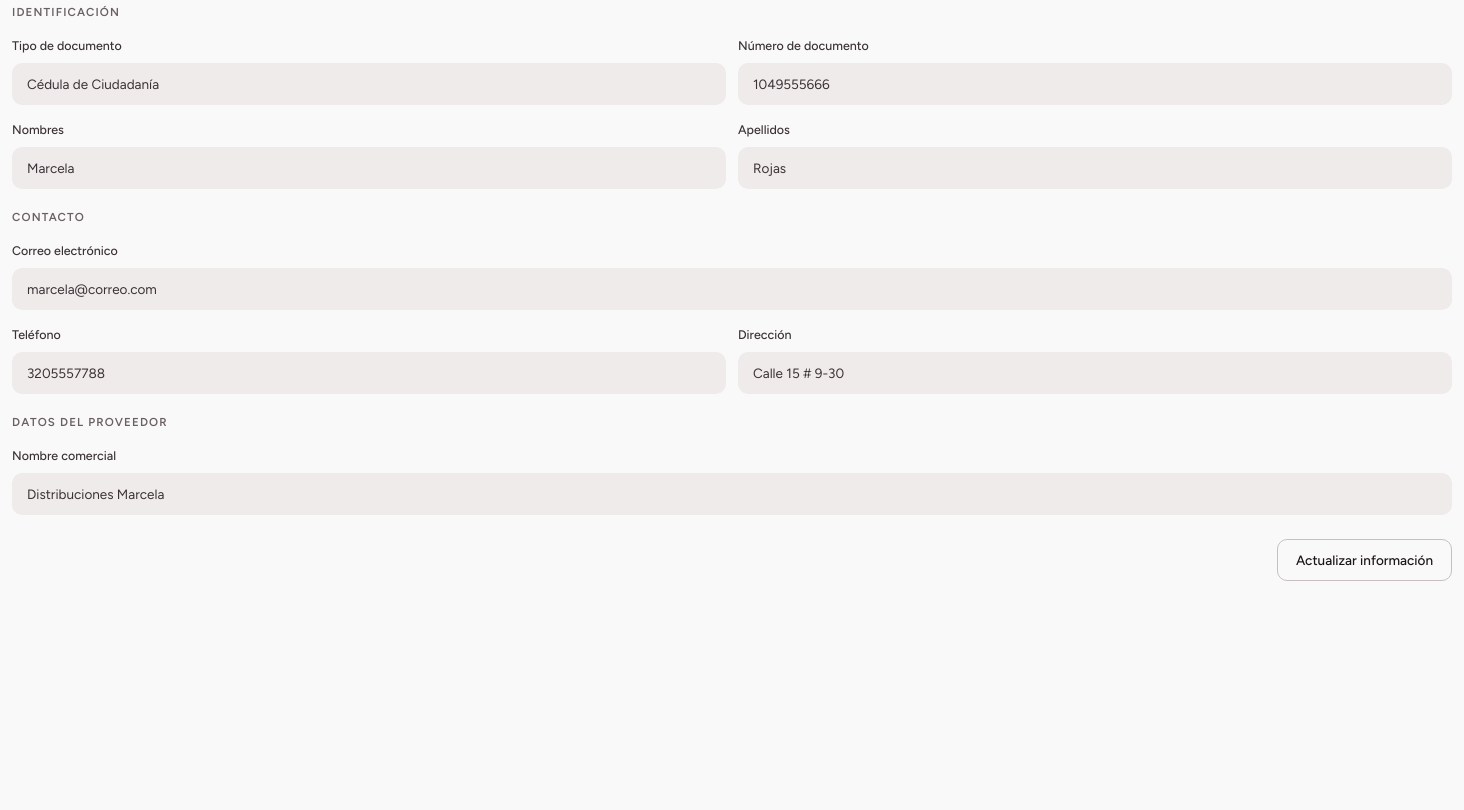
Test: SupplierDataForm validation › asks for both names of a natural person
Click the button "Actualizar información". click: coordinates (1364, 560)
box: [1277,539,1452,581]
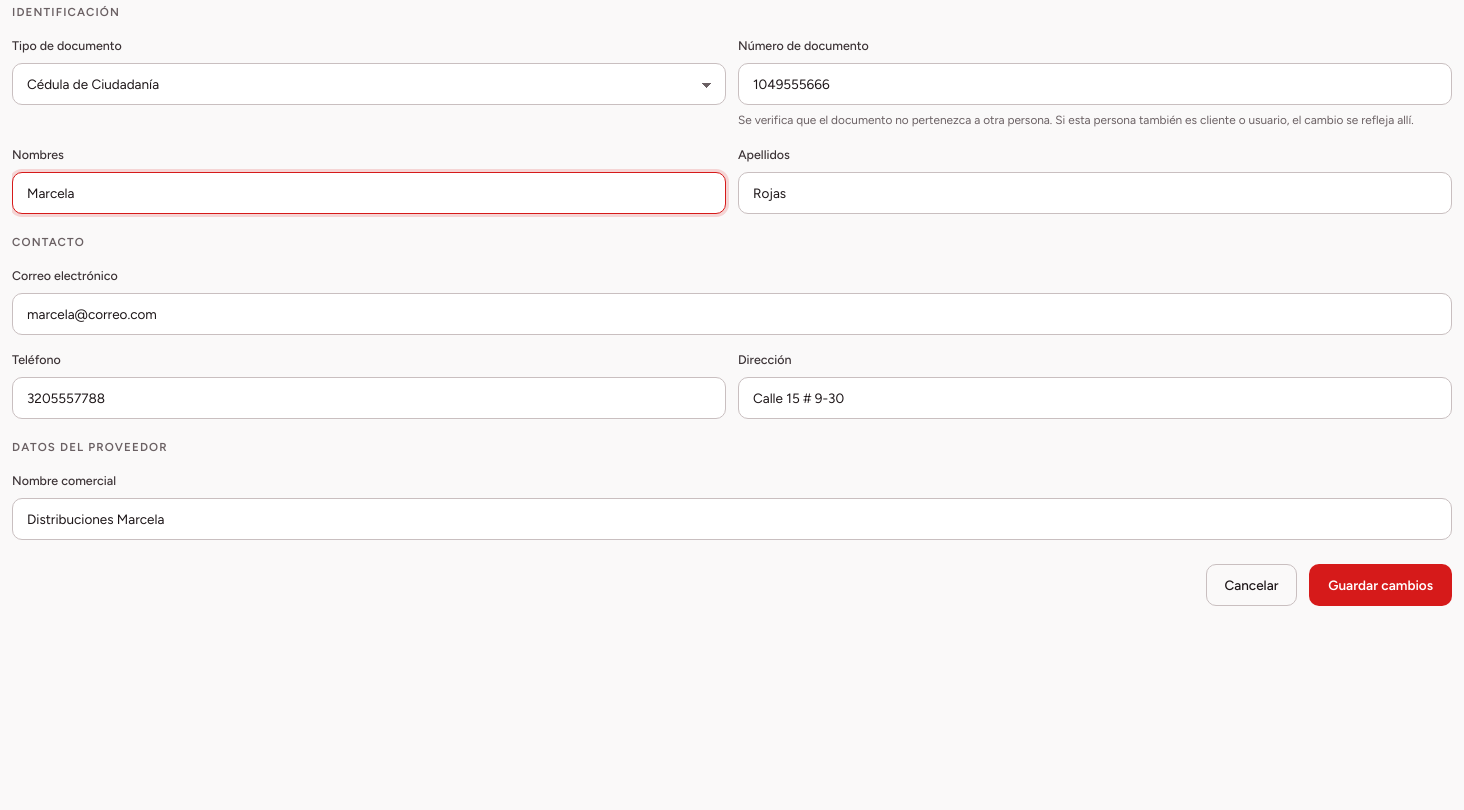
Now the dropdown labelled "Tipo de documento" shows "Cédula de Ciudadanía", box [12,63,726,105]
Clear the field labelled "Nombres". click: coordinates (369, 193)
box: [12,172,726,214]
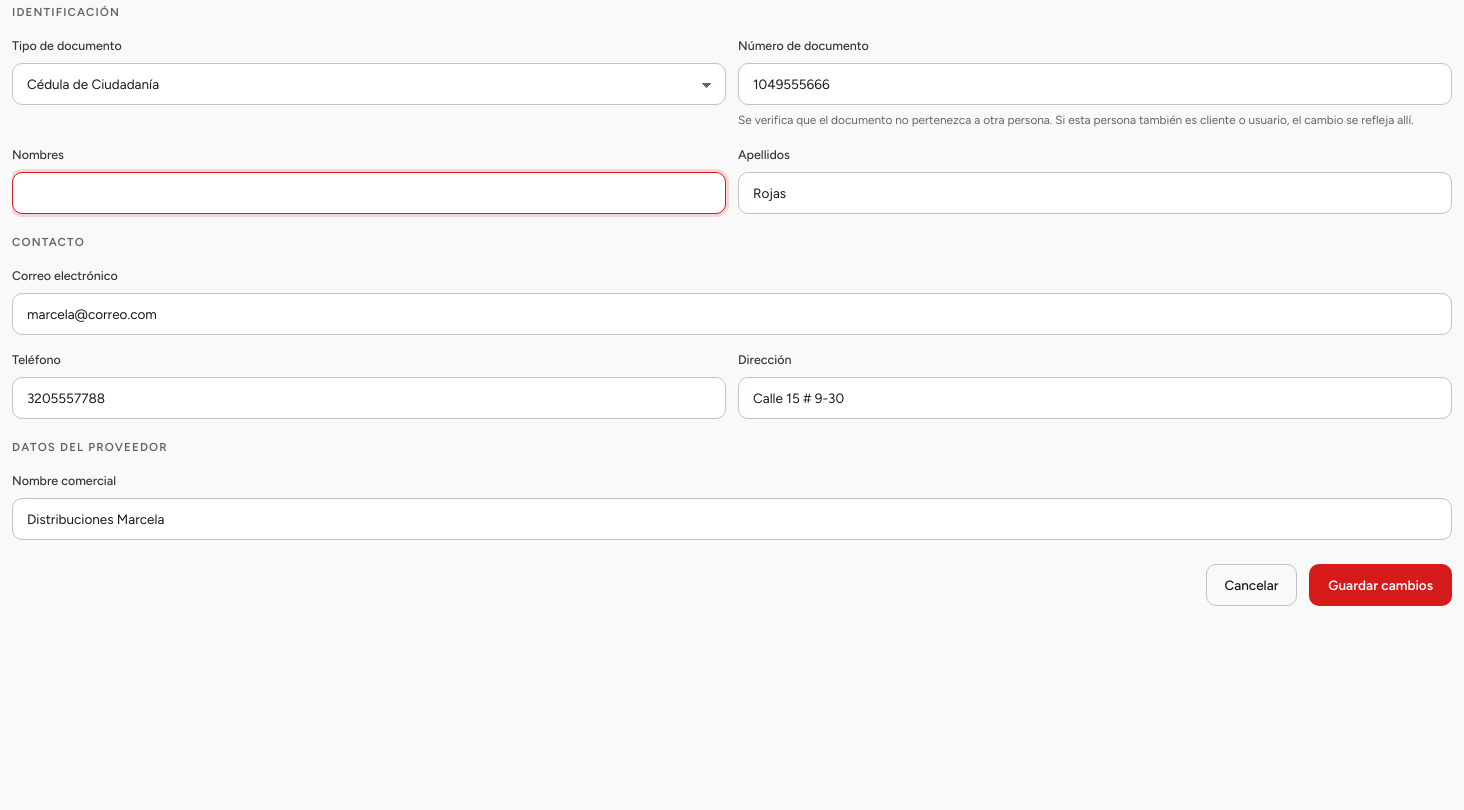
Click the button "Guardar cambios". click: coordinates (1381, 585)
box: [1309,564,1452,606]
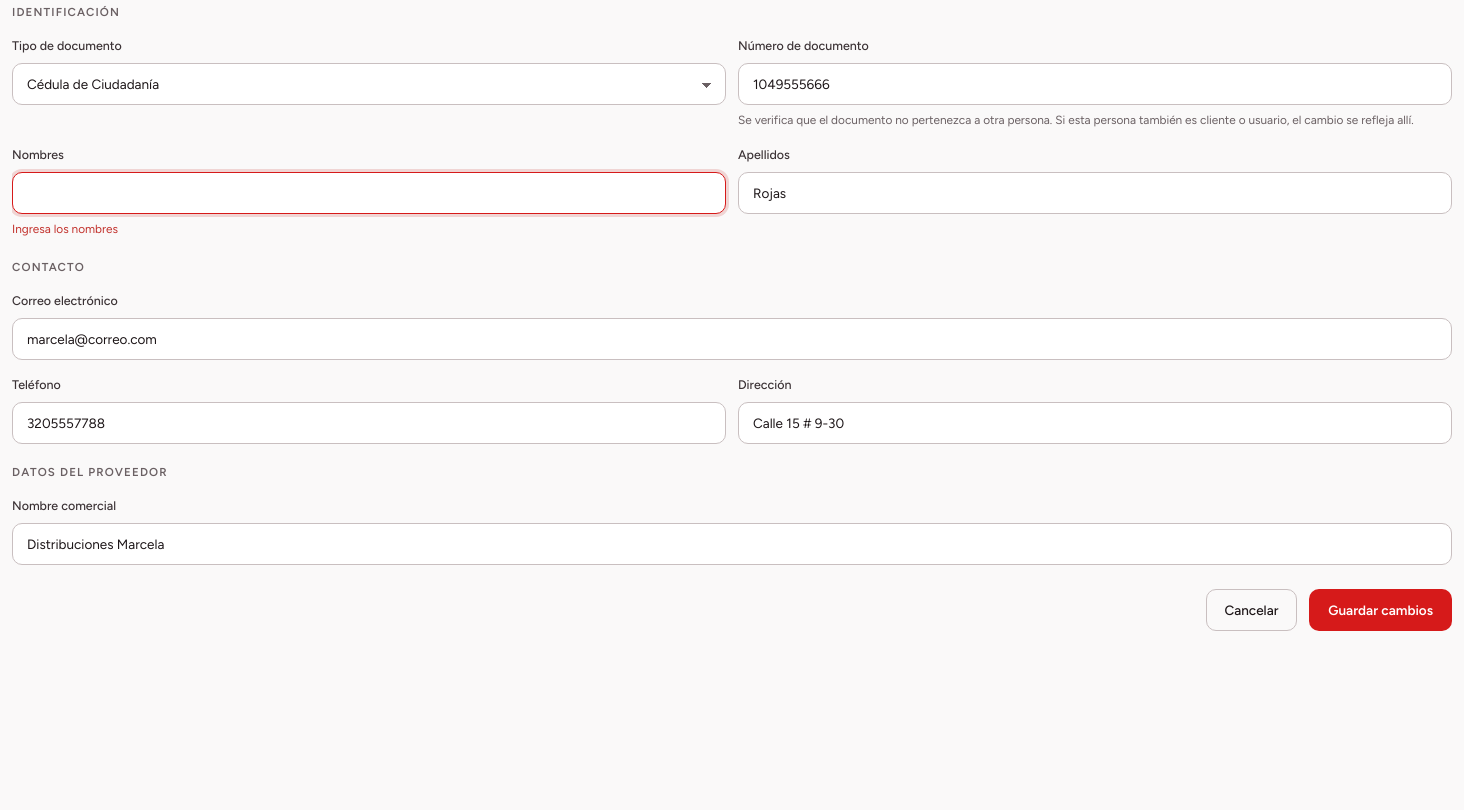
Now the text "Ingresa los nombres" is shown, box [12,222,118,236]
